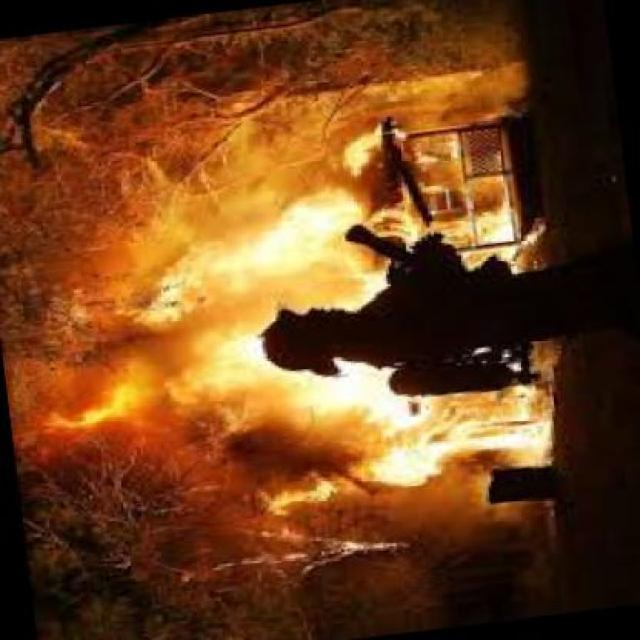Fire: (128, 172, 369, 314), (266, 386, 582, 486), (39, 325, 272, 441), (382, 132, 537, 258)
